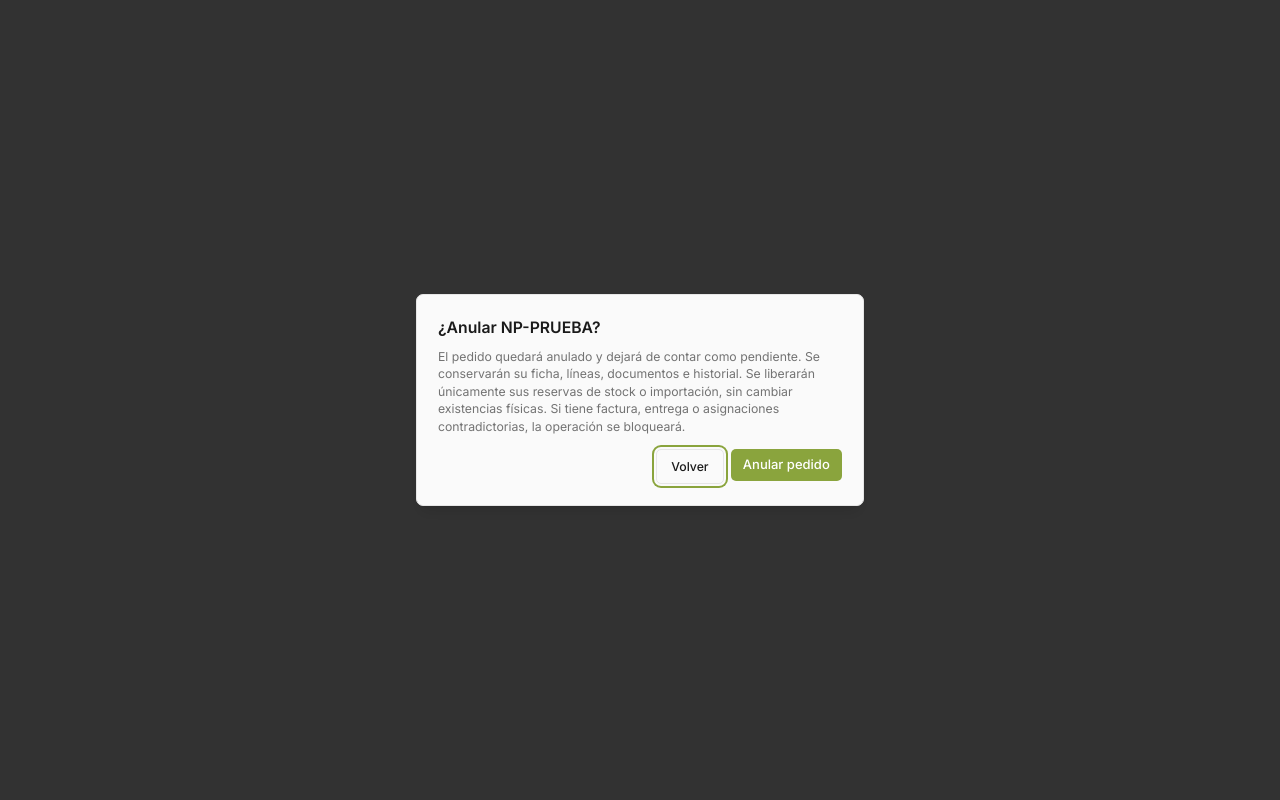
Test: función aún no instalada informa sin borrar ni fallback
Step 1. Click the button "Anular pedido" → coordinates (786, 465), box [731,449,842,480]
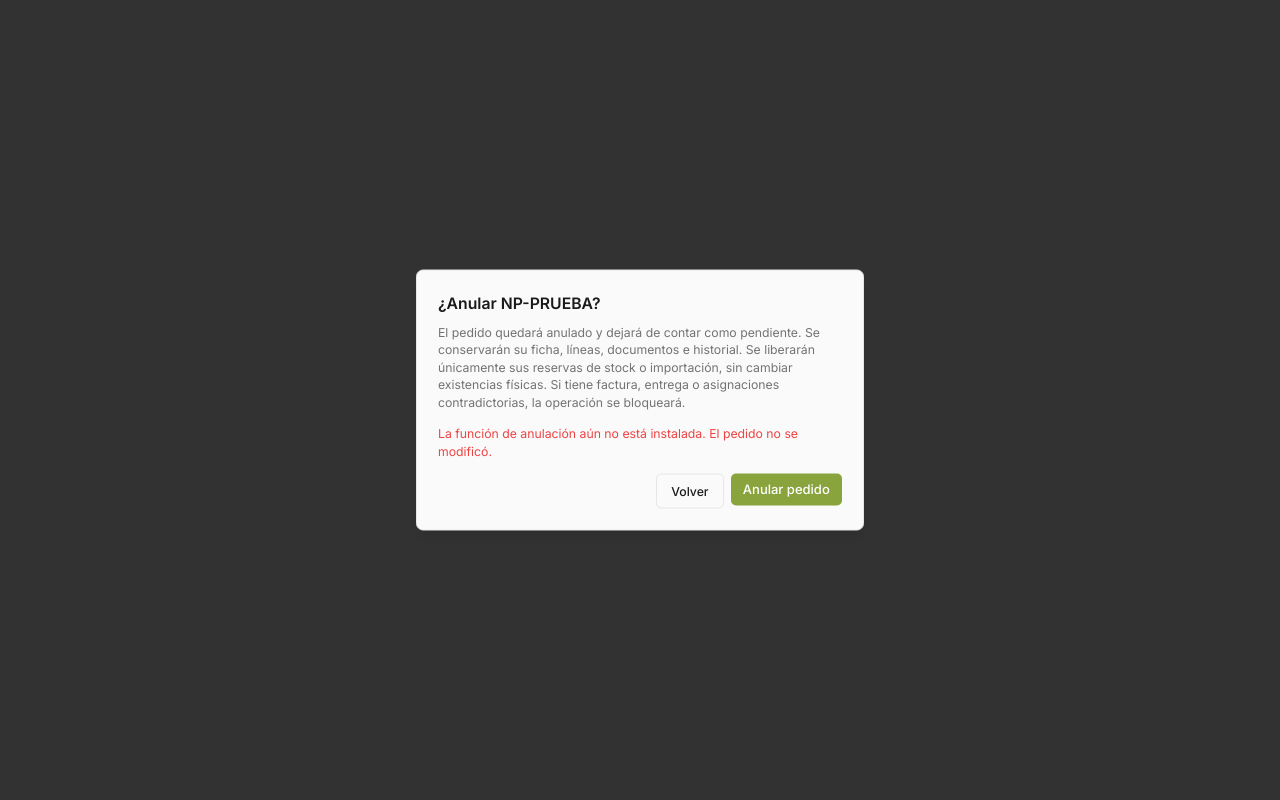
Result: the message shows "aún no está instalada" at [438,426,798,458]
